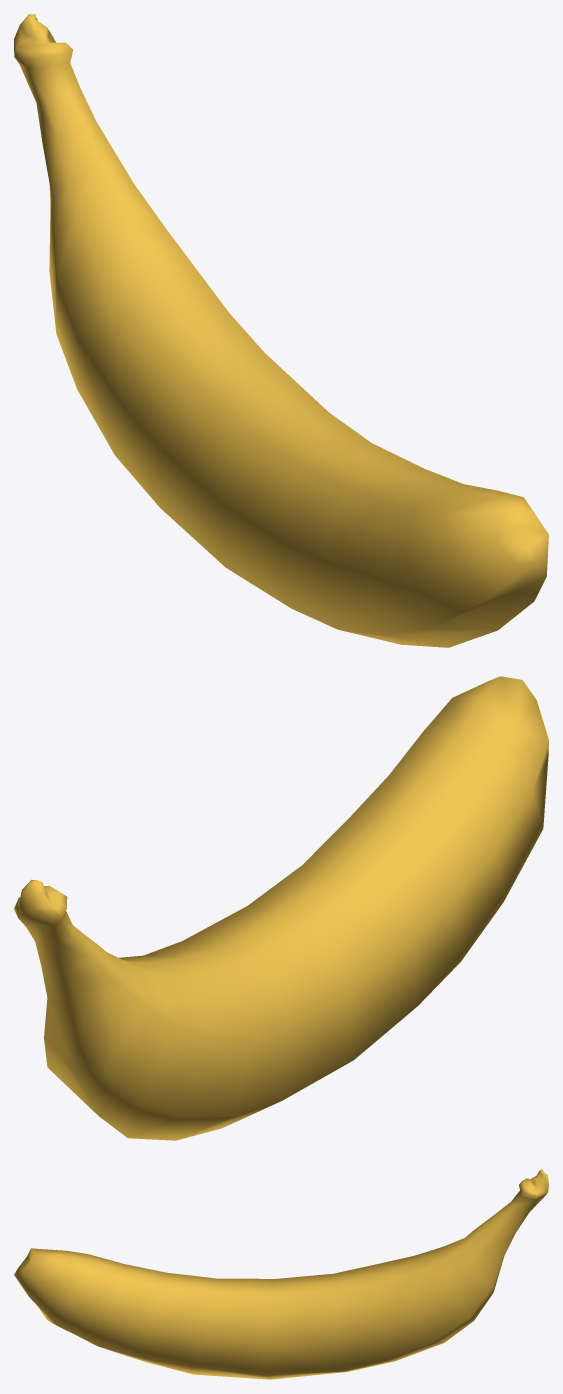
3 views of the same model, one above another, from view 1: azimuth 30°, elevation 25°; view 2: azimuth 150°, elevation 25°; view 3: azimuth 270°, elevation 25° (orthographic). The views are drawn at different scales.
Parts seen in each view (by area): view 1: banan; view 2: banan; view 3: banan.
Part boxes in pixels (x1,y1,x2,y2): banan: [14, 14, 548, 647]; banan: [14, 676, 548, 1140]; banan: [14, 1169, 548, 1379].
Bounding box in the file's own units: 4.24 × 12.44 × 28.65.
